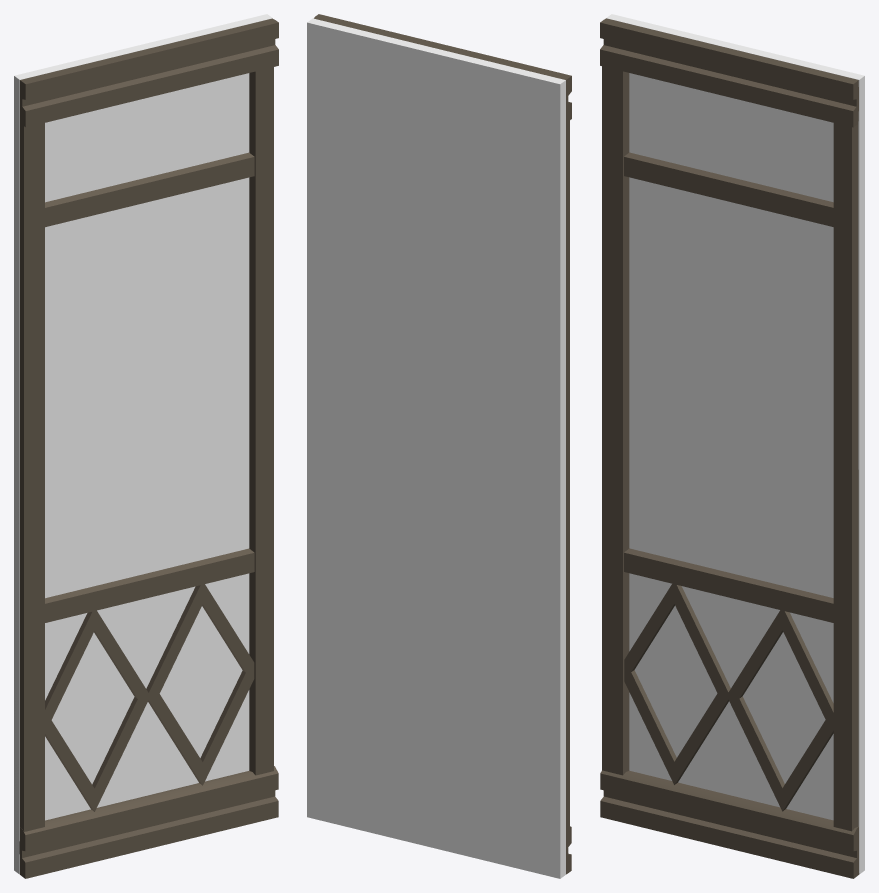
The model's file is WALL_01_1.glb.
3 views of the same model, side by side, from view 1: azimuth 30°, elevation 25°; view 2: azimuth 150°, elevation 25°; view 3: azimuth 330°, elevation 25° (orthographic).
Parts seen in each view (by area): view 1: WALL_01_1; view 2: WALL_01_1; view 3: WALL_01_1.
Part boxes in pixels (<box>): WALL_01_1: <box>14,14,278,878</box>; WALL_01_1: <box>307,14,571,878</box>; WALL_01_1: <box>600,14,864,878</box>.
Bounding box in the file's own units: 1 × 3 × 0.08.
1 material, 1 textured.
